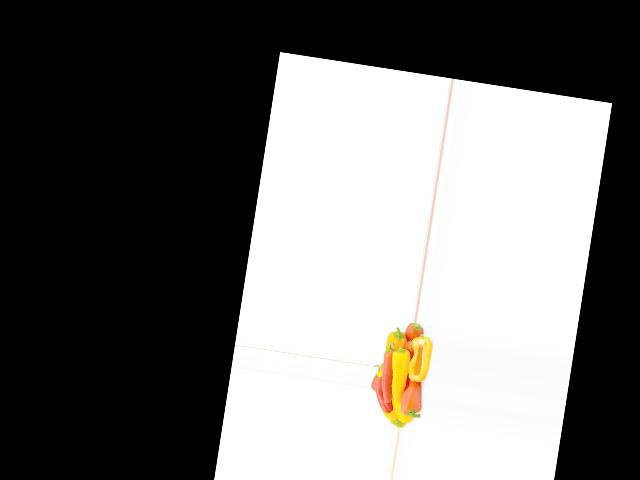bell_pepper: (398, 320, 424, 353)
